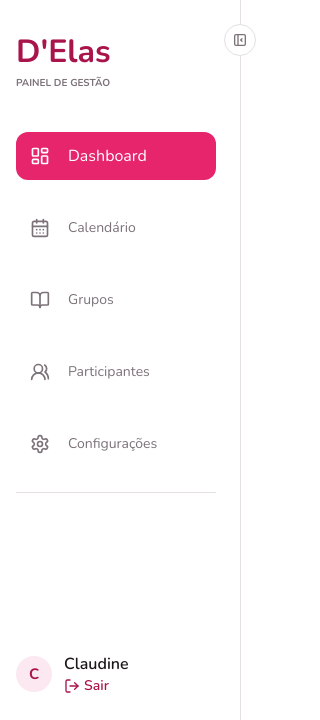
Sidebar › recolhe e expande sozinha quando não é controlada
The width and height of the screenshot is (320, 720).
Step 1. Click the button named "Recolher menu lateral" → [240, 40], box [224, 24, 256, 56]
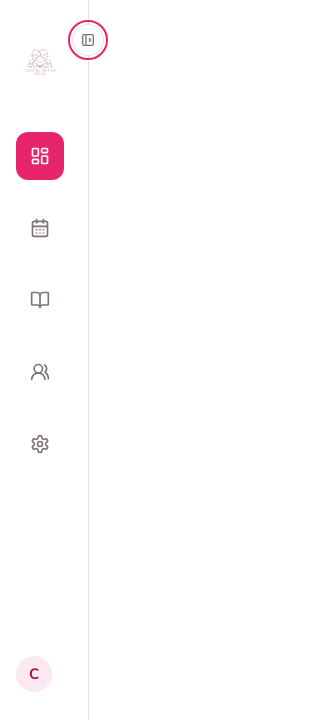
Now the button named "Expandir menu lateral" is collapsed, box [72, 24, 104, 56]
